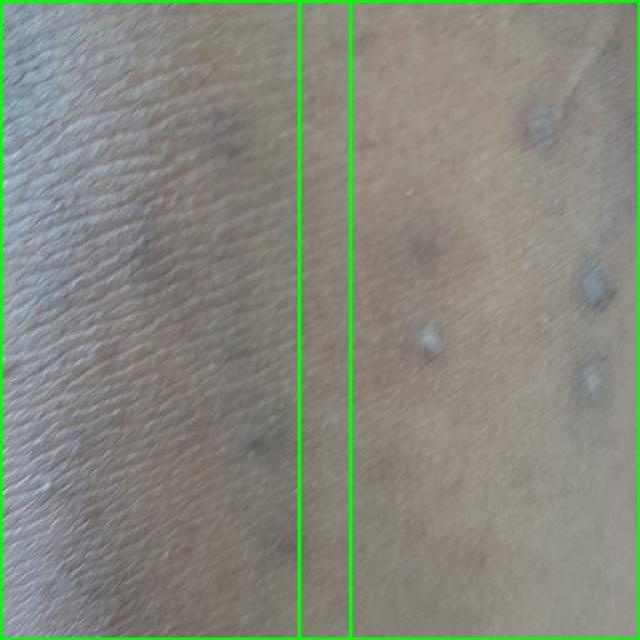Scabies: (0, 0, 350, 639), (299, 0, 639, 639)
